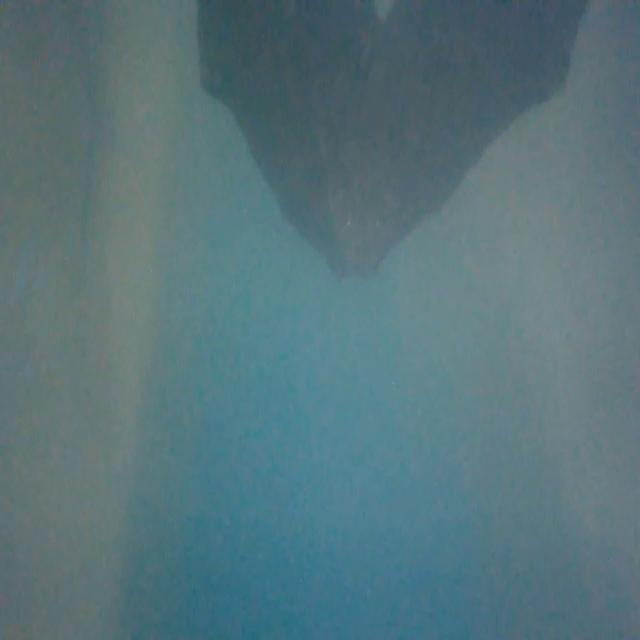plastic bags: (173, 0, 606, 268)
